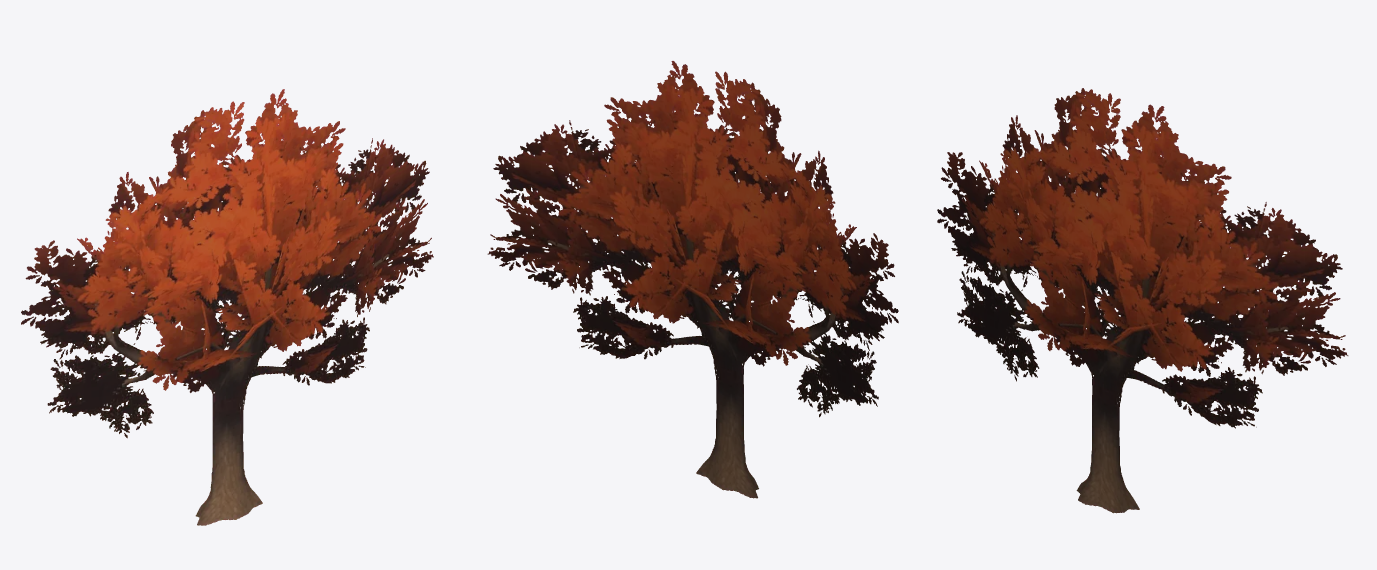
The picture shows the model from 3 angles, left to right: view 1: azimuth 30°, elevation 25°; view 2: azimuth 150°, elevation 25°; view 3: azimuth 330°, elevation 25°; orthographic projection.
Parts seen in each view (by area): view 1: body0_model0_lod0_mesh0; view 2: body0_model0_lod0_mesh0; view 3: body0_model0_lod0_mesh0.
Boxes of the visible parts, x1,y1,x2,y2 form: body0_model0_lod0_mesh0: [21, 89, 433, 525]; body0_model0_lod0_mesh0: [487, 61, 898, 498]; body0_model0_lod0_mesh0: [937, 88, 1348, 513].
Size of the model in its own units: 42.94 by 41.63 by 3.65.
1 material, 1 textured.
